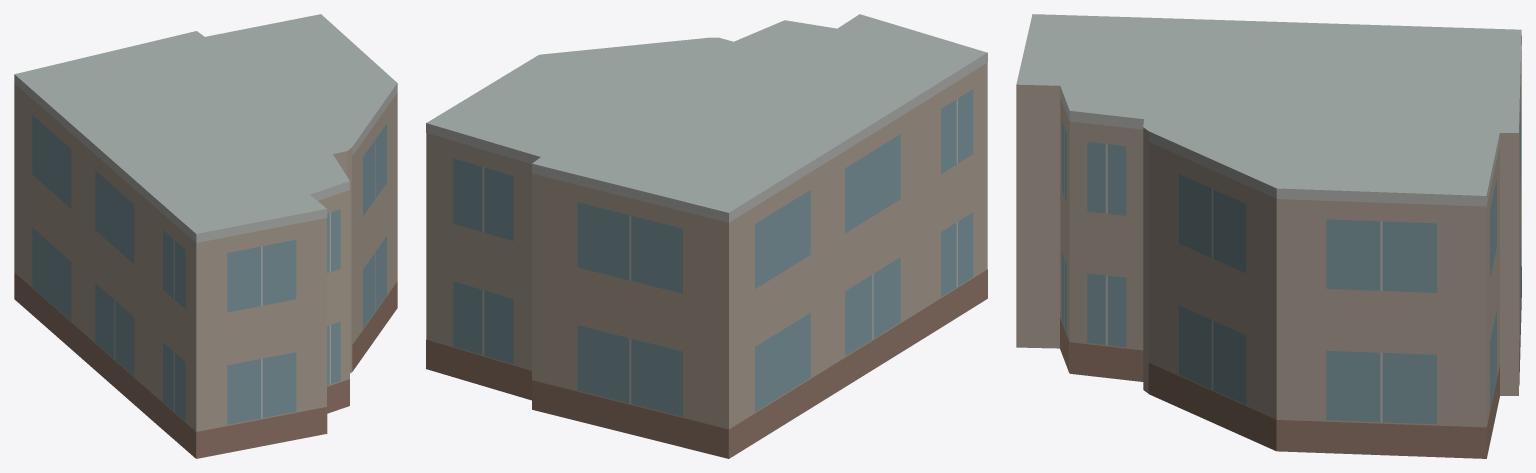
Rendered from survey-upis-32776603.glb.
3 views of the same model, side by side, from view 1: azimuth 30°, elevation 25°; view 2: azimuth 150°, elevation 25°; view 3: azimuth 270°, elevation 25° (orthographic). The views are drawn at different scales.
Parts seen in each view (by area): view 1: survey-upis-32776603.tmp; view 2: survey-upis-32776603.tmp; view 3: survey-upis-32776603.tmp.
Part boxes in pixels (box(x1,y1,x2,y2)): survey-upis-32776603.tmp: box(14, 14, 397, 458); survey-upis-32776603.tmp: box(426, 14, 987, 458); survey-upis-32776603.tmp: box(1016, 14, 1521, 458).
Size of the model in its own units: 9.07 by 6.1 by 10.64.
